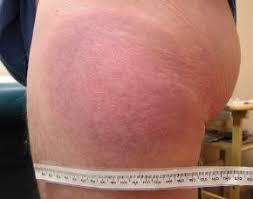Tick: (28, 0, 239, 167)
